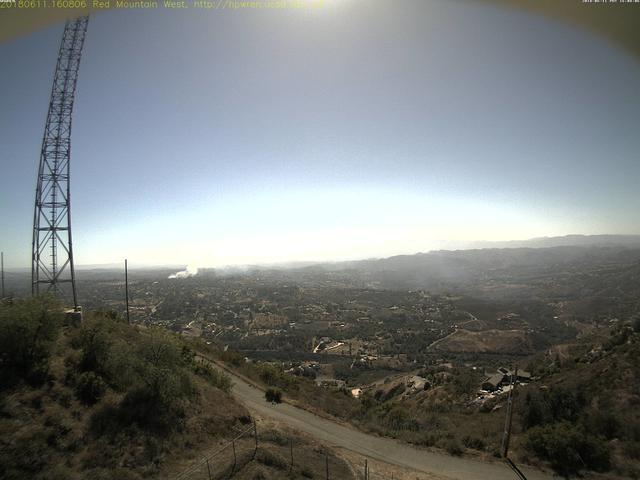smoke: (165, 256, 219, 282)
